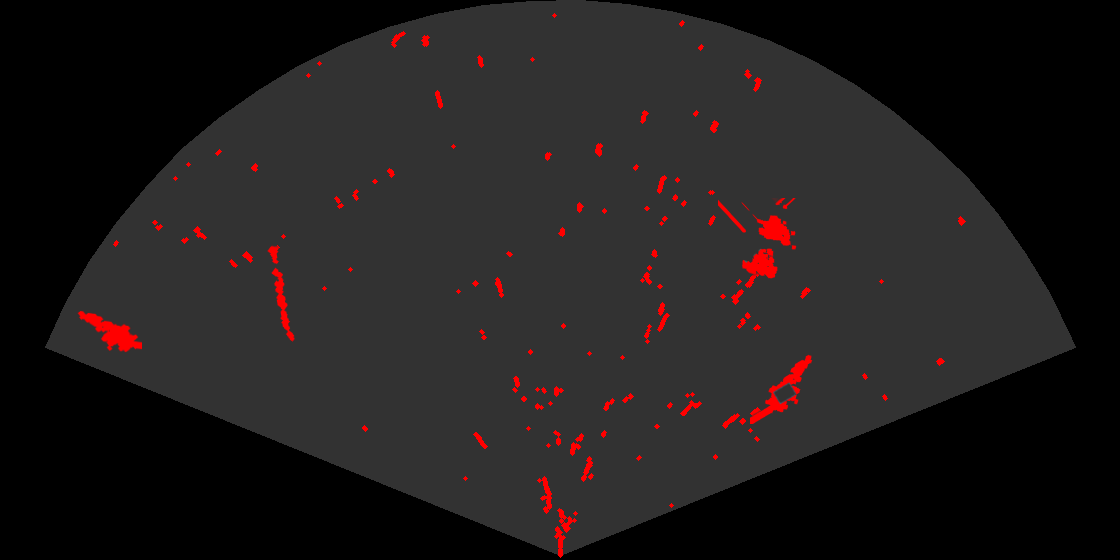cage: (718, 198, 798, 280)
chain: (266, 243, 296, 343)
frogman: (750, 353, 814, 424), (76, 309, 142, 354)
